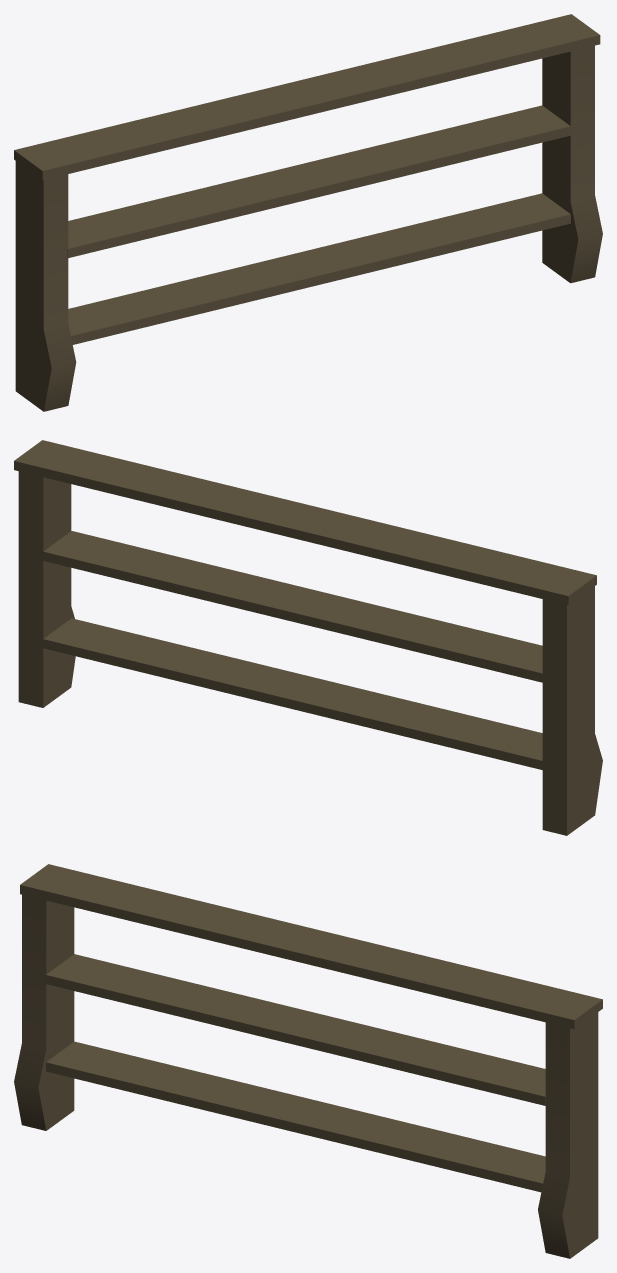
File: Prateleira.fbx
The picture shows the model from 3 angles, top to bottom: view 1: azimuth 30°, elevation 25°; view 2: azimuth 150°, elevation 25°; view 3: azimuth 330°, elevation 25°; orthographic projection.
Visible parts, largest first — view 1: Prateleira; view 2: Prateleira; view 3: Prateleira.
Part boxes in pixels (x1,y1,x2,y2): Prateleira: (14, 14, 602, 411); Prateleira: (14, 440, 602, 835); Prateleira: (14, 864, 602, 1258).
Size of the model in its own units: 1.99 by 0.8233 by 0.2236.
